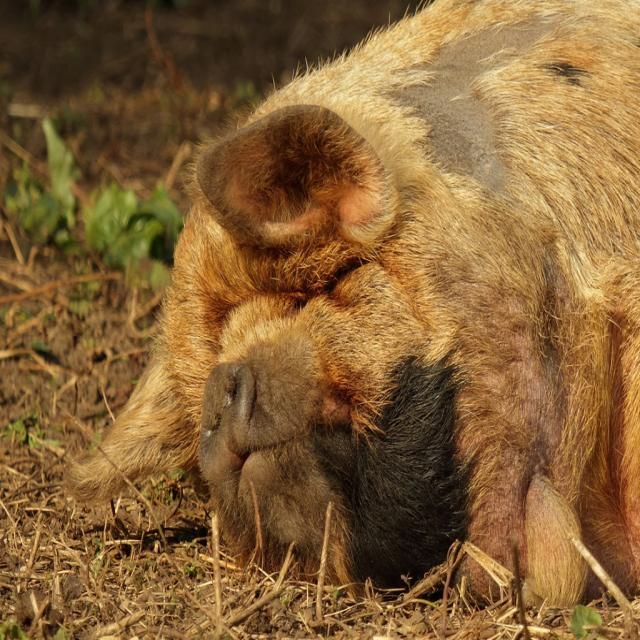Pig: (63, 0, 640, 614)
